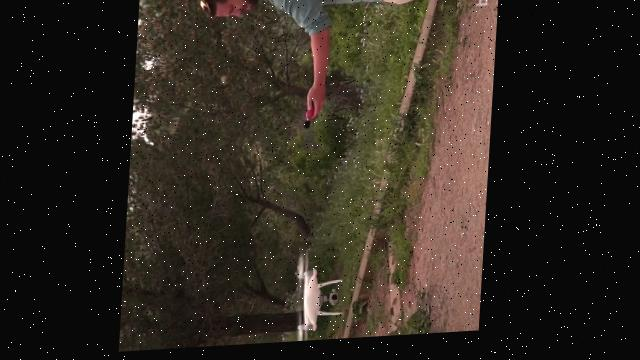drone: (294, 252, 351, 346)
